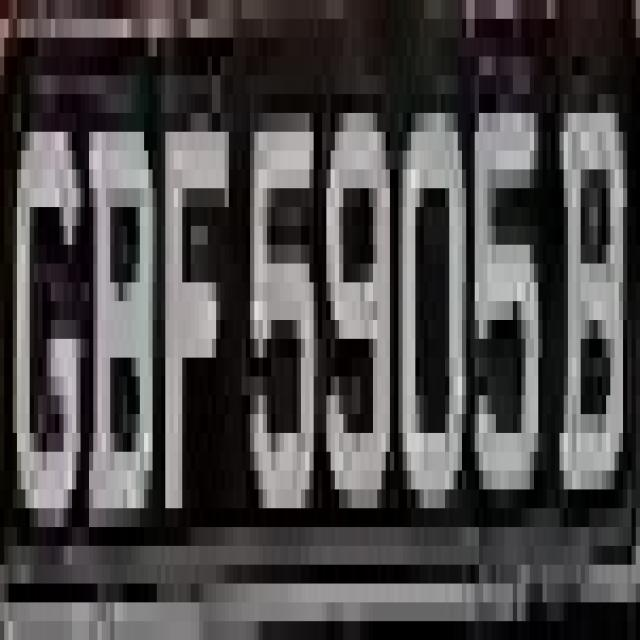0: (390, 75, 466, 527)
5: (237, 75, 314, 546), (462, 94, 534, 565)
9: (310, 94, 394, 602)
B: (85, 94, 157, 584), (551, 94, 627, 546)
F: (157, 56, 229, 546)
G: (8, 76, 85, 584)
